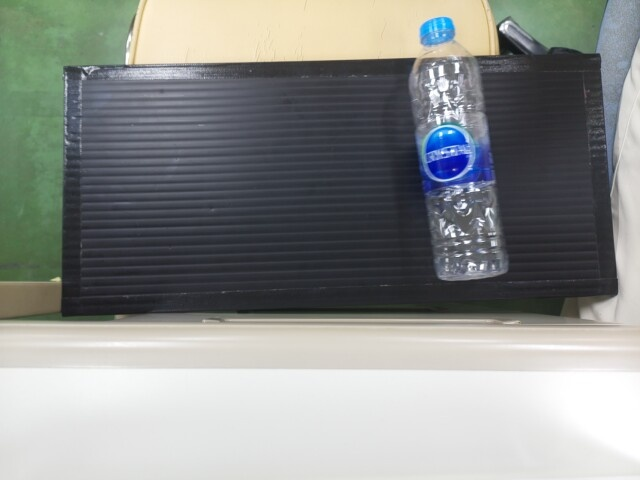plastic_bottle: (408, 8, 495, 278)
